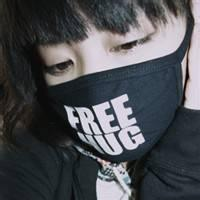face_mask: (40, 1, 180, 155)
